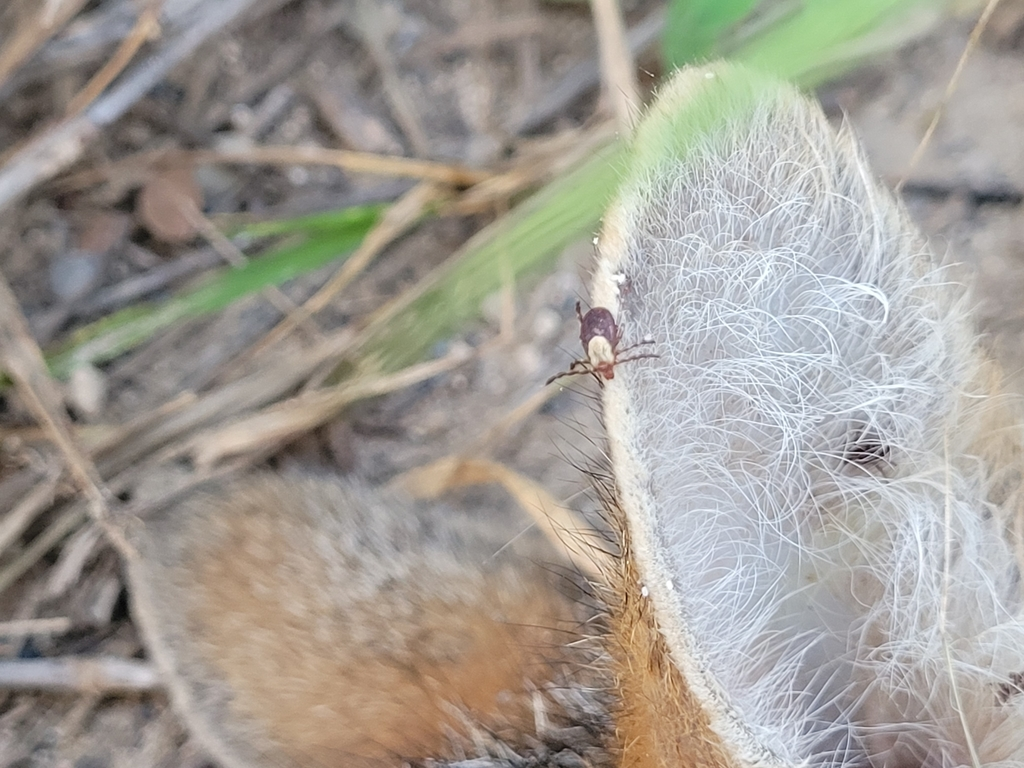garrapata: (547, 302, 676, 387)
